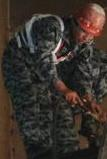hard-hat: (74, 1, 106, 35)
ppe-suit: (0, 11, 80, 158)
